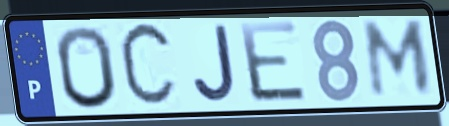8: (309, 16, 363, 105)
C: (116, 17, 180, 114)
E: (235, 18, 311, 105)
J: (189, 21, 239, 105)
M: (362, 17, 435, 100)
O: (52, 23, 120, 112)
